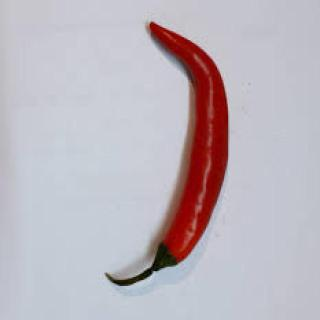Cabai Merah: (109, 23, 230, 286)
